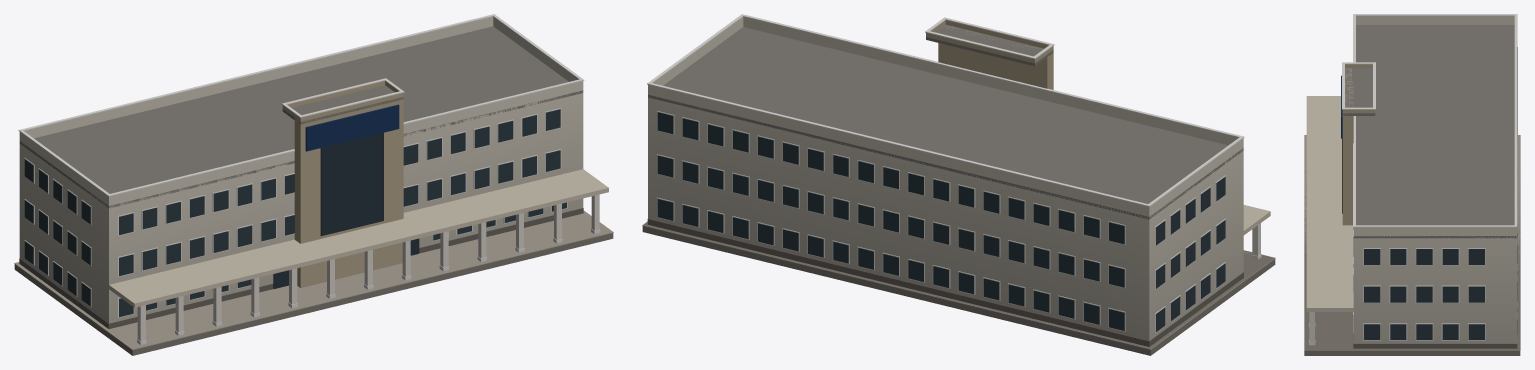
The model's file is ns_uni_lod1.glb.
The picture shows the model from 3 angles, left to right: view 1: azimuth 30°, elevation 25°; view 2: azimuth 150°, elevation 25°; view 3: azimuth 270°, elevation 25°; orthographic projection. The views are drawn at different scales.
Visible parts, largest first — view 1: ns_uni_lod1; view 2: ns_uni_lod1; view 3: ns_uni_lod1.
Part boxes in pixels (x1=…): ns_uni_lod1: x1=14, y1=14, x2=613, y2=355; ns_uni_lod1: x1=642, y1=14, x2=1275, y2=355; ns_uni_lod1: x1=1304, y1=14, x2=1520, y2=355.
Size of the model in its own units: 46.66 by 16.48 by 19.86.
